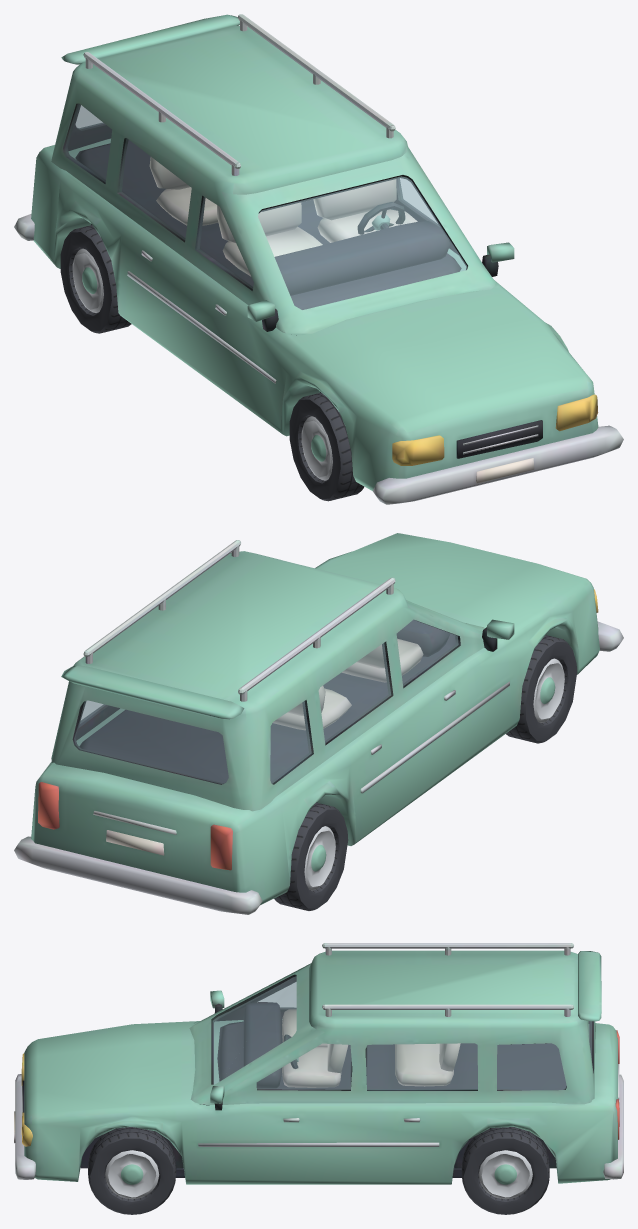
The model's file is estate.glb.
The picture shows the model from 3 angles, top to bottom: view 1: azimuth 30°, elevation 25°; view 2: azimuth 150°, elevation 25°; view 3: azimuth 270°, elevation 25°; orthographic projection. The views are drawn at different scales.
Visible parts, largest first — view 1: body, windows, wheel_FR, wheel_RR; view 2: body, windows, wheel_RR, wheel_FR; view 3: body, windows, wheel_RL, wheel_FL.
Boxes of the visible parts, x1,y1,x2,y2 form: body: (14, 14, 623, 504); windows: (65, 103, 466, 309); wheel_FR: (289, 392, 364, 501); wheel_RR: (60, 225, 131, 333); body: (14, 533, 623, 914); windows: (74, 620, 458, 783); wheel_RR: (274, 802, 348, 910); wheel_FR: (506, 635, 577, 743); body: (14, 943, 623, 1184); windows: (213, 976, 591, 1090); wheel_RL: (461, 1127, 549, 1214); wheel_FL: (88, 1127, 176, 1214).
Bounding box in the file's own units: 1.85 × 1.62 × 4.59.
Materials: 6 (2 with a texture image).
